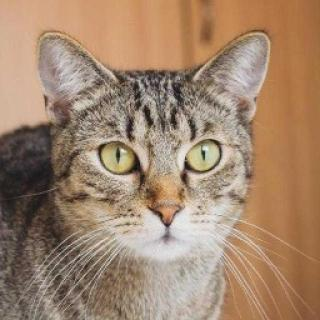cat: (37, 24, 279, 270)
nose: (140, 191, 197, 232)
